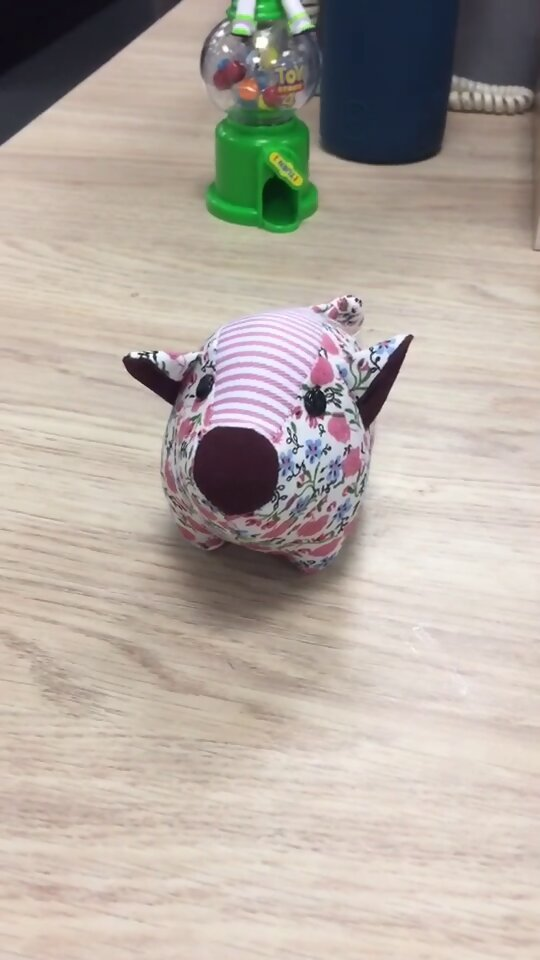pig: (116, 289, 415, 580)
